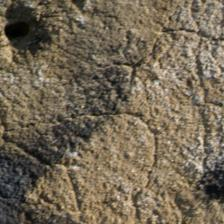Crack: (97, 54, 209, 148), (26, 82, 136, 139)
